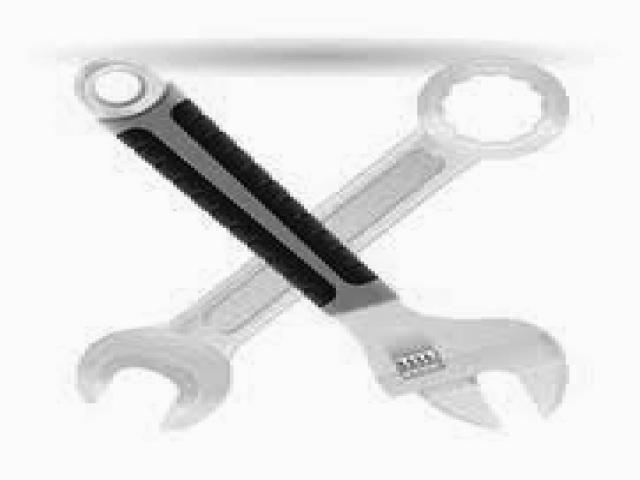Adjustable spanner: (73, 52, 572, 429)
Wrench: (73, 54, 577, 431)
